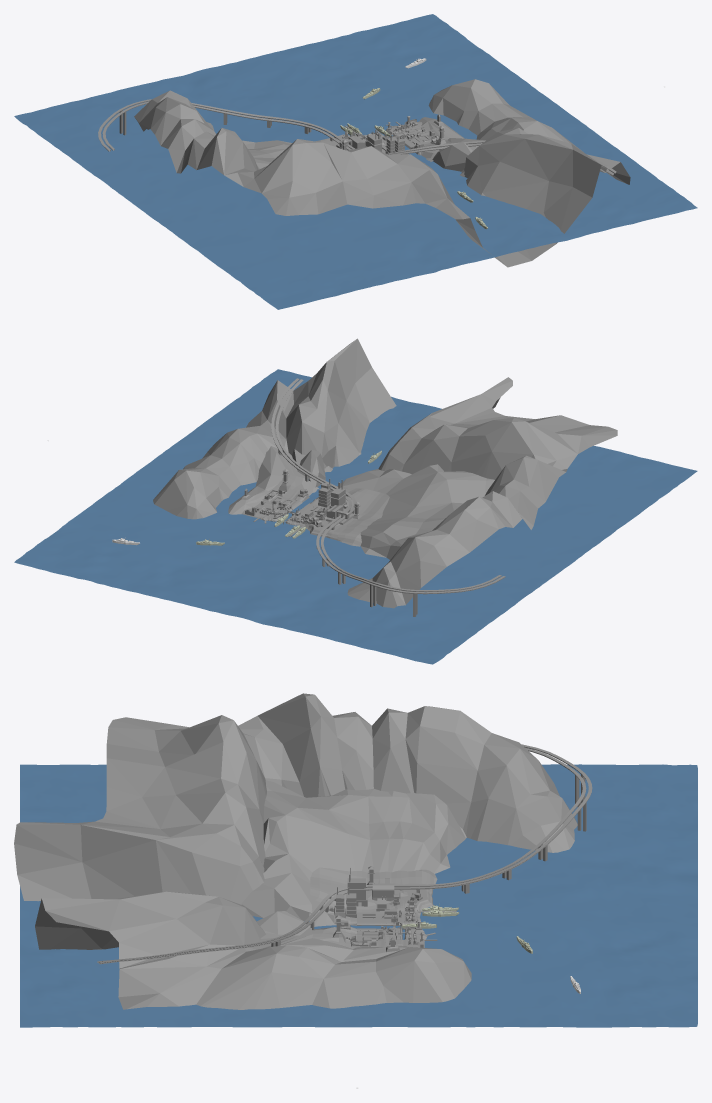
The model's file is city 6 wolf nose smell the trail FIX.fbx.
3 views of the same model, one above another, from view 1: azimuth 30°, elevation 25°; view 2: azimuth 150°, elevation 25°; view 3: azimuth 270°, elevation 25° (orthographic). The views are drawn at different scales.
Parts seen in each view (by area): view 1: water, background2, main land mesh, background1, Plane.002; view 2: water, background2, background1, main land mesh, Plane.002; view 3: background2, water, background1, main land mesh, Plane.002.
Boxes of the visible parts, x1,y1,x2,y2 form: water: (14,14,697,309); background2: (134,79,630,267); main land mesh: (315,116,452,163); background1: (242,114,485,176); Plane.002: (98,99,616,175); water: (14,369,697,664); background2: (153,338,617,608); background1: (228,446,494,559); main land mesh: (241,469,389,546); Plane.002: (271,378,505,616); background2: (14,693,577,1009); water: (20,764,697,1027); background1: (241,780,466,961); main land mesh: (309,866,456,948); Plane.002: (97,744,592,964).
Size of the model in its own units: 77442 by 16602 by 69058.
